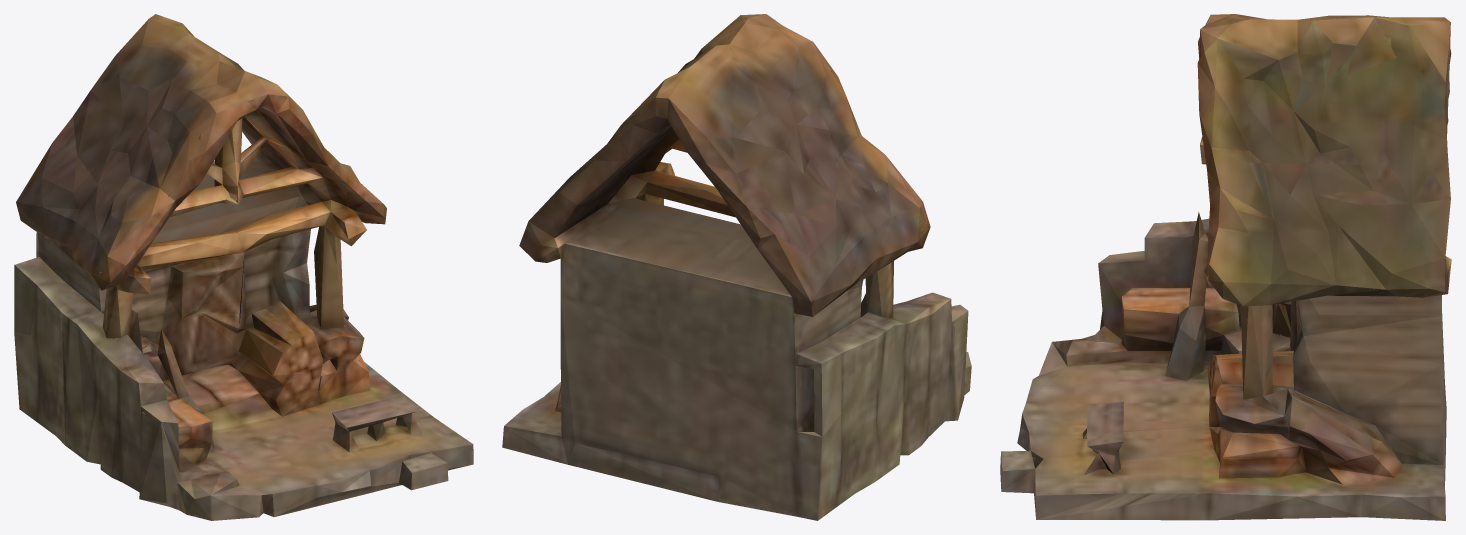
Rendered from lumber_mill_lod1.glb.
The picture shows the model from 3 angles, left to right: view 1: azimuth 30°, elevation 25°; view 2: azimuth 150°, elevation 25°; view 3: azimuth 270°, elevation 25°; orthographic projection. The views are drawn at different scales.
Parts seen in each view (by area): view 1: lumber_mill_lod1; view 2: lumber_mill_lod1; view 3: lumber_mill_lod1.
Boxes of the visible parts, left/top/right/bottom form: lumber_mill_lod1: left=14, top=14, right=473, bottom=520; lumber_mill_lod1: left=502, top=14, right=971, bottom=520; lumber_mill_lod1: left=1000, top=14, right=1451, bottom=520.
Bounding box in the file's own units: 4.72 × 5.54 × 5.33.
1 material, 1 textured.
